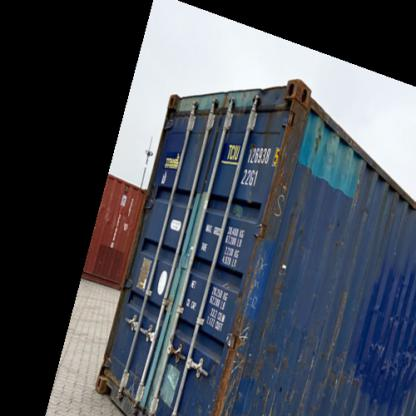Damage: (215, 314, 284, 394), (364, 334, 414, 384), (320, 356, 363, 400), (370, 298, 413, 330), (265, 170, 289, 218), (310, 117, 326, 167), (350, 196, 374, 219), (329, 224, 346, 248)
